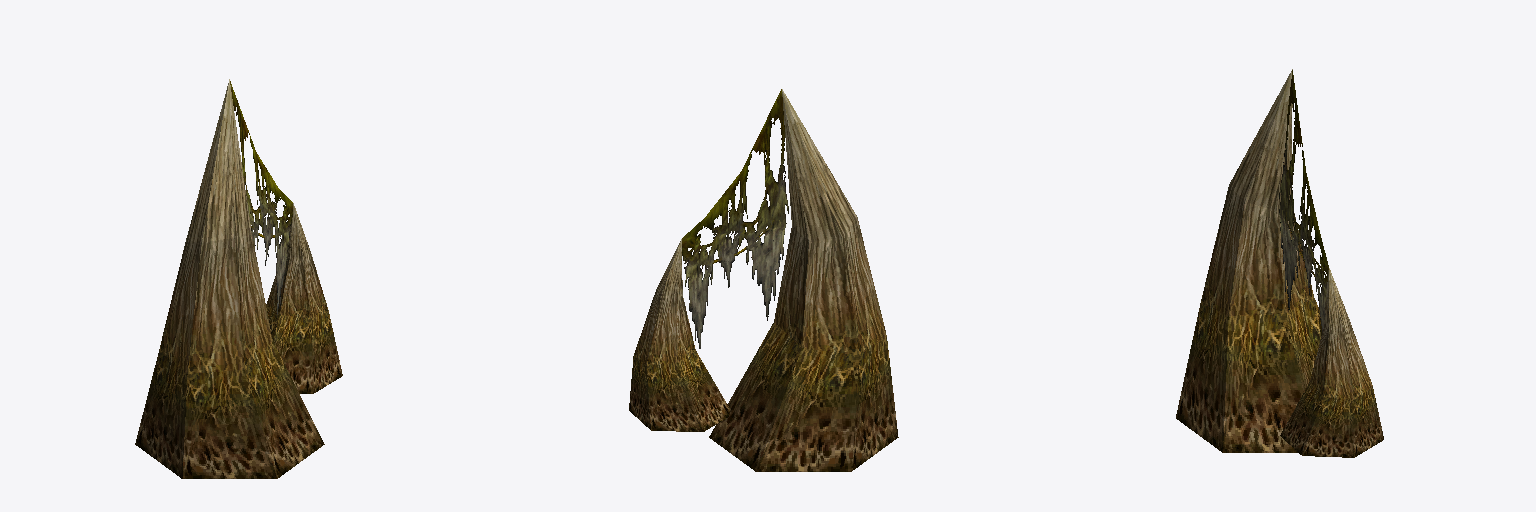
3 views of the same model, side by side, from view 1: azimuth 30°, elevation 25°; view 2: azimuth 150°, elevation 25°; view 3: azimuth 270°, elevation 25° (orthographic).
Parts seen in each view (by area): view 1: SwampSorrowRoot02; view 2: SwampSorrowRoot02; view 3: SwampSorrowRoot02.
Boxes of the visible parts, x1,y1,x2,y2 form: SwampSorrowRoot02: [135, 79, 342, 478]; SwampSorrowRoot02: [629, 89, 898, 471]; SwampSorrowRoot02: [1176, 69, 1383, 457].
Size of the model in its own units: 3.31 by 5.5 by 2.93.
2 materials, 2 textured.